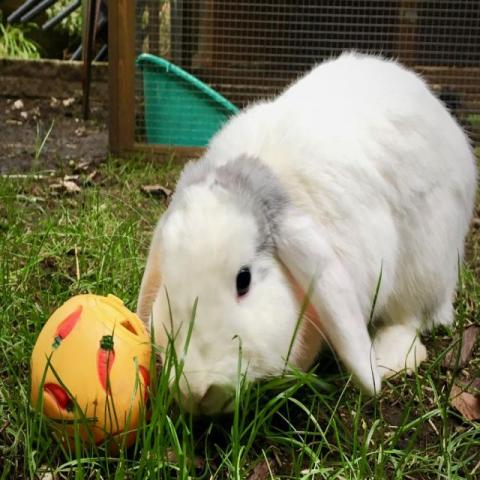small_animal: (134, 47, 478, 418)
